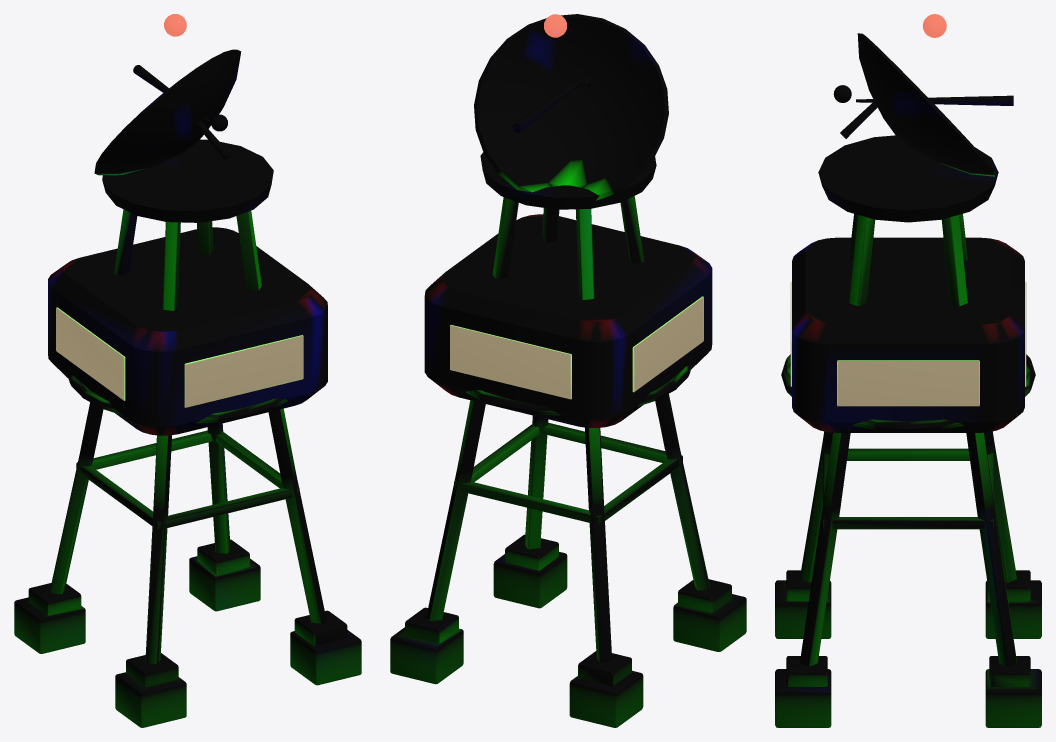
The model's file is hero_comms_tower.glb.
3 views of the same model, side by side, from view 1: azimuth 30°, elevation 25°; view 2: azimuth 150°, elevation 25°; view 3: azimuth 270°, elevation 25° (orthographic). The views are drawn at different scales.
Visible parts, largest first — view 1: HeroCommsTower; view 2: HeroCommsTower; view 3: HeroCommsTower.
Boxes of the visible parts, left/top/right/bottom form: HeroCommsTower: left=14, top=14, right=361, bottom=727; HeroCommsTower: left=390, top=14, right=746, bottom=727; HeroCommsTower: left=775, top=14, right=1041, bottom=727.
Size of the model in its own units: 7.1 by 19.32 by 7.1.
